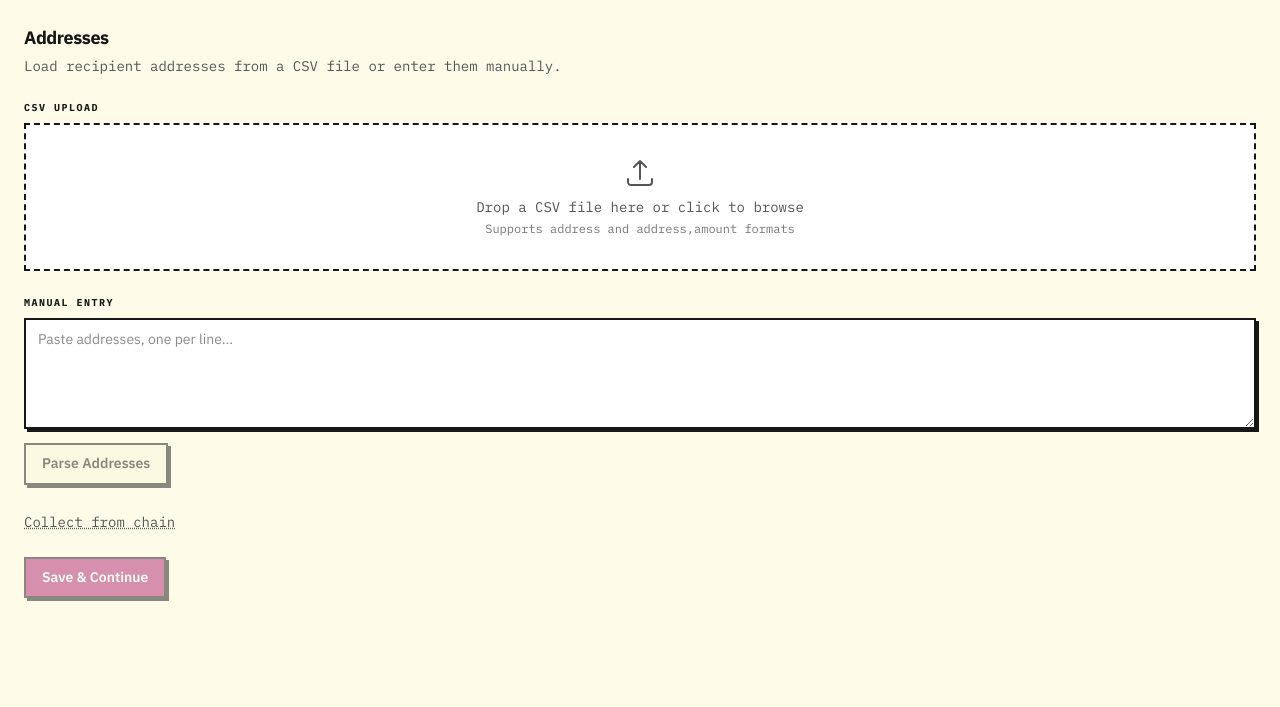
it: AddressesStep › shows explorer scan params with contract address field
Click the button "Collect from chain".
click(100, 522)  # box [24,512,175,532]
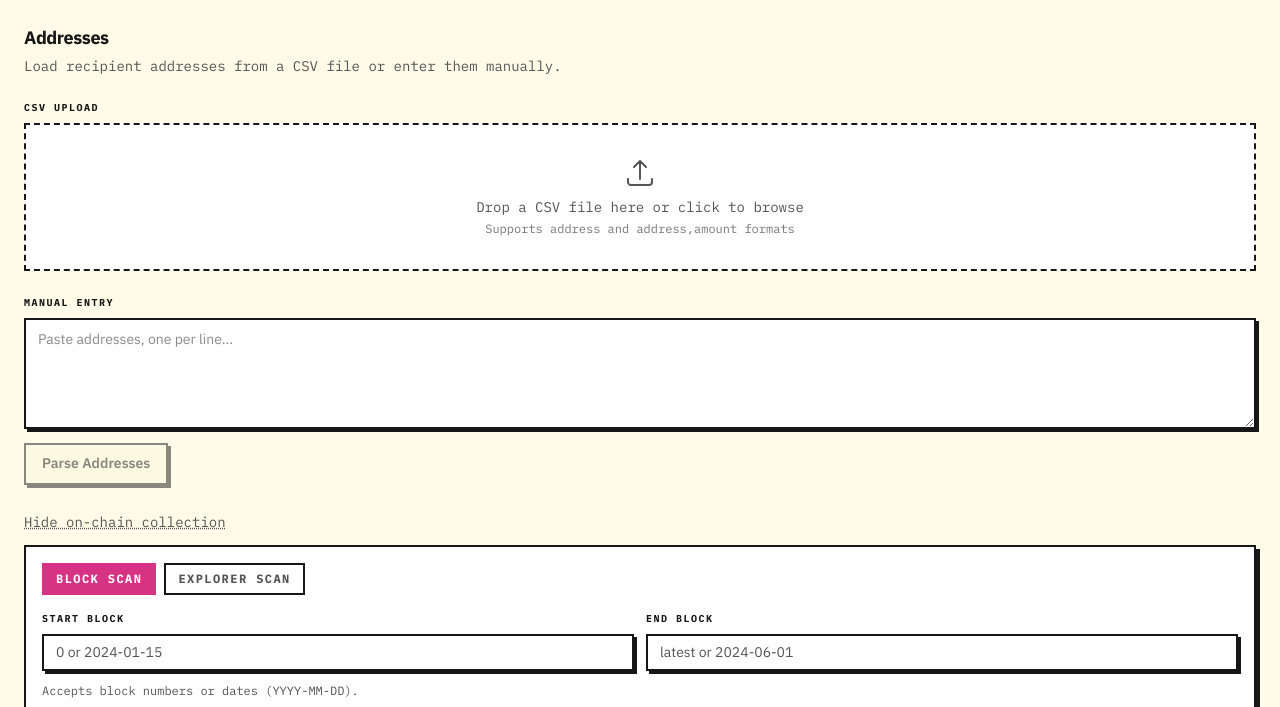
Click the button "Explorer Scan".
click(235, 578)  # box [164,562,305,594]
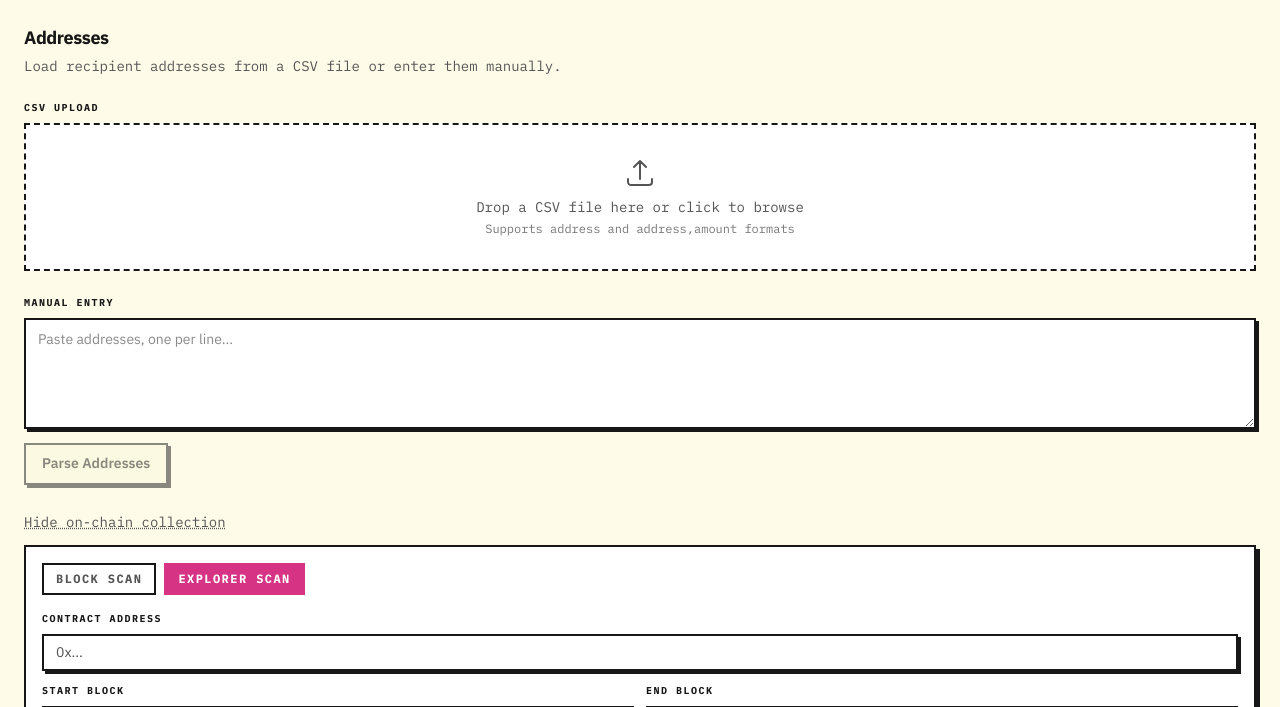
Expected: the text "Contract Address" is shown, [42,612,162,624]
Expected: the field with placeholder "0x..." is shown, [42,634,1238,671]
